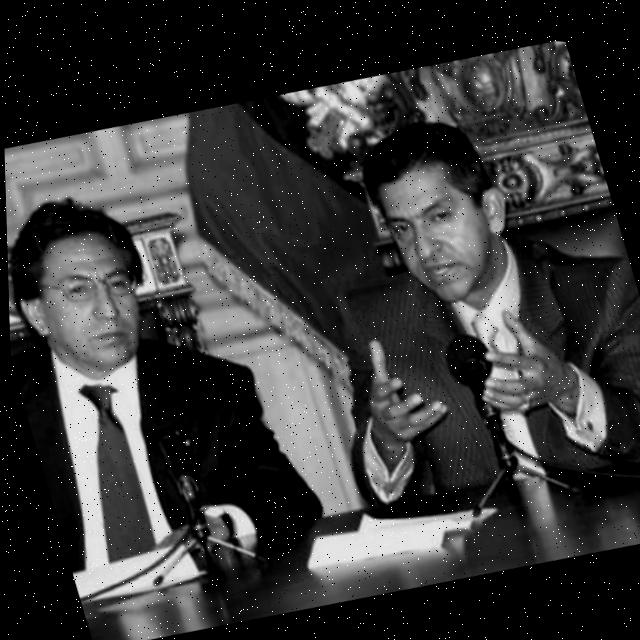face: (12, 209, 171, 386), (348, 141, 502, 305)
